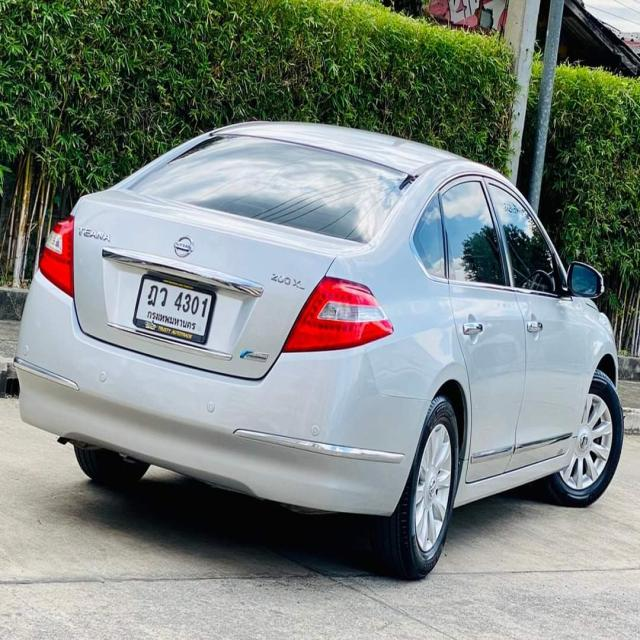license_plate: (131, 270, 220, 351)
